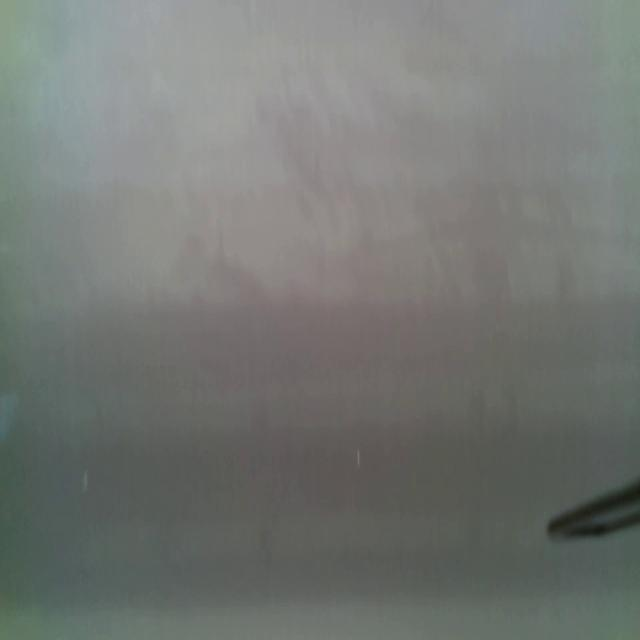color bleeding: (0, 303, 546, 602)
hole: (355, 446, 363, 471), (84, 468, 90, 492)
